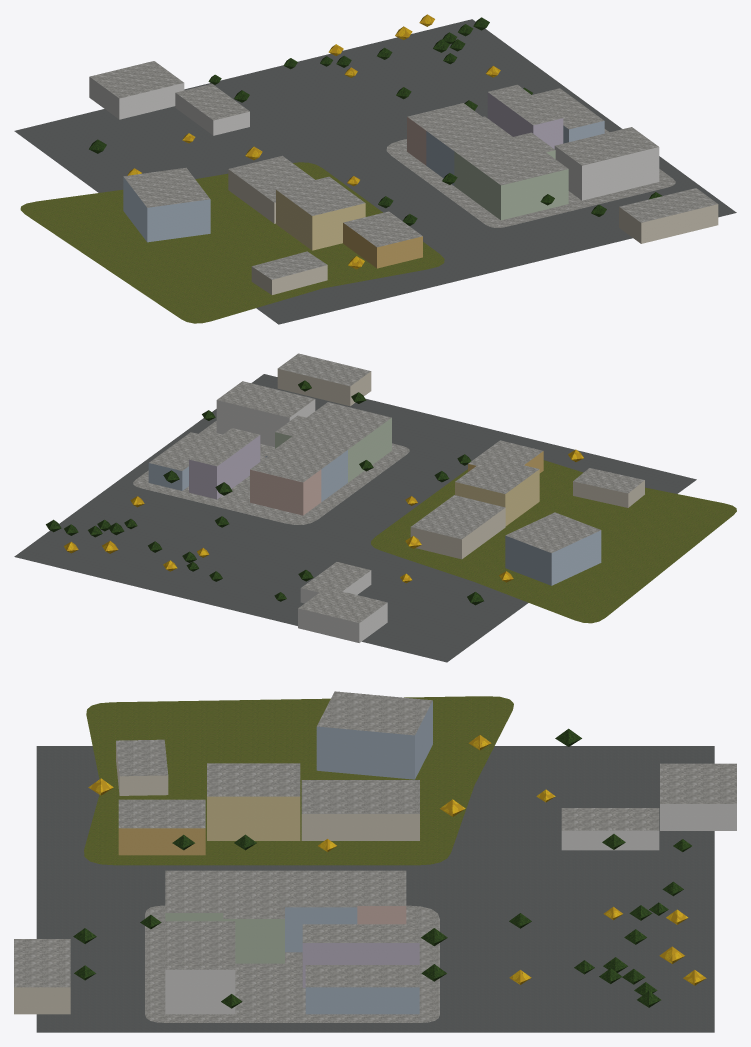
Rendered from cidade_S02_06_lod.gltf.
The picture shows the model from 3 angles, top to bottom: view 1: azimuth 30°, elevation 25°; view 2: azimuth 150°, elevation 25°; view 3: azimuth 270°, elevation 25°; orthographic projection. The views are drawn at different scales.
Parts seen in each view (by area): view 1: S02_06_Chao_LOD2, S02_06_Edificios_LOD1, S02_06_Vegetacao_LOD2; view 2: S02_06_Chao_LOD2, S02_06_Edificios_LOD1, S02_06_Vegetacao_LOD2; view 3: S02_06_Chao_LOD2, S02_06_Edificios_LOD1, S02_06_Vegetacao_LOD2.
Part boxes in pixels (left/top/right/bottom): S02_06_Chao_LOD2: left=14, top=19, right=736, bottom=324; S02_06_Edificios_LOD1: left=89, top=61, right=718, bottom=294; S02_06_Vegetacao_LOD2: left=89, top=14, right=662, bottom=269; S02_06_Chao_LOD2: left=14, top=374, right=736, bottom=662; S02_06_Edificios_LOD1: left=148, top=353, right=644, bottom=642; S02_06_Vegetacao_LOD2: left=46, top=380, right=583, bottom=605; S02_06_Chao_LOD2: left=36, top=696, right=714, bottom=1032; S02_06_Edificios_LOD1: left=14, top=691, right=736, bottom=1014; S02_06_Vegetacao_LOD2: left=73, top=728, right=706, bottom=1008.
Bounding box in the file's own units: 117 × 7.47 × 107.
13 materials, 13 textured.
